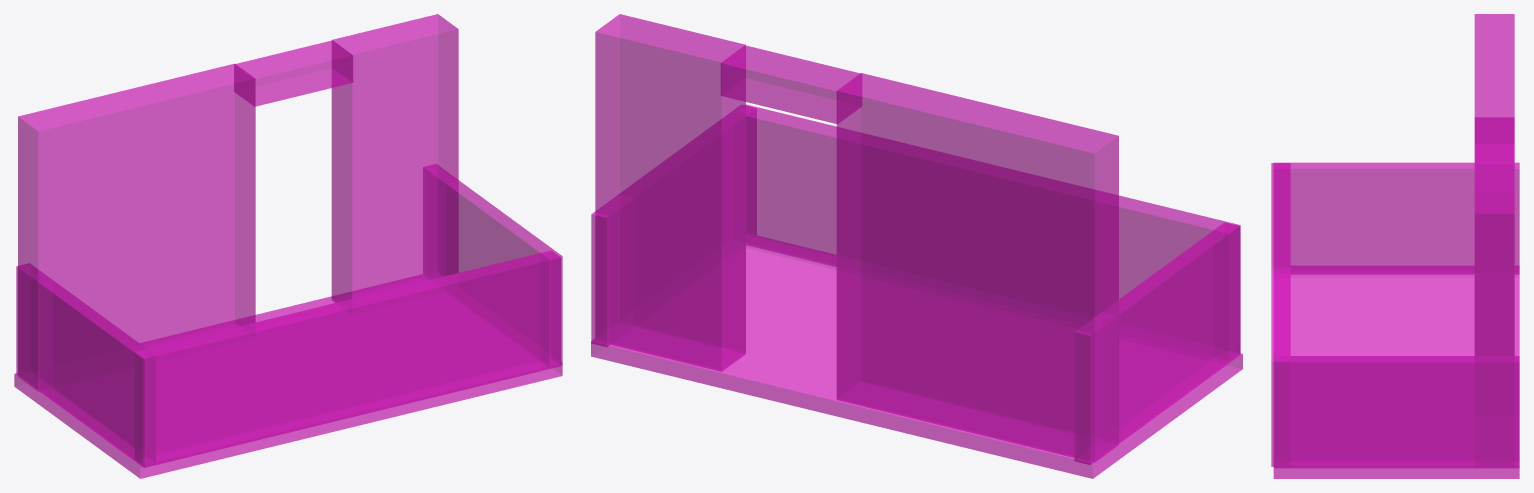
Rendered from SM_Bld_Balcony_01_Collision.fbx.
3 views of the same model, side by side, from view 1: azimuth 30°, elevation 25°; view 2: azimuth 150°, elevation 25°; view 3: azimuth 270°, elevation 25° (orthographic). The views are drawn at different scales.
Visible parts, largest first — view 1: SM_Bld_Balcony_01_Collision; view 2: SM_Bld_Balcony_01_Collision; view 3: SM_Bld_Balcony_01_Collision.
Part boxes in pixels (x1,y1,x2,y2): SM_Bld_Balcony_01_Collision: (14,14,562,478); SM_Bld_Balcony_01_Collision: (591,14,1242,478); SM_Bld_Balcony_01_Collision: (1271,14,1519,478).
Bounding box in the file's own units: 509 × 313 × 266.
